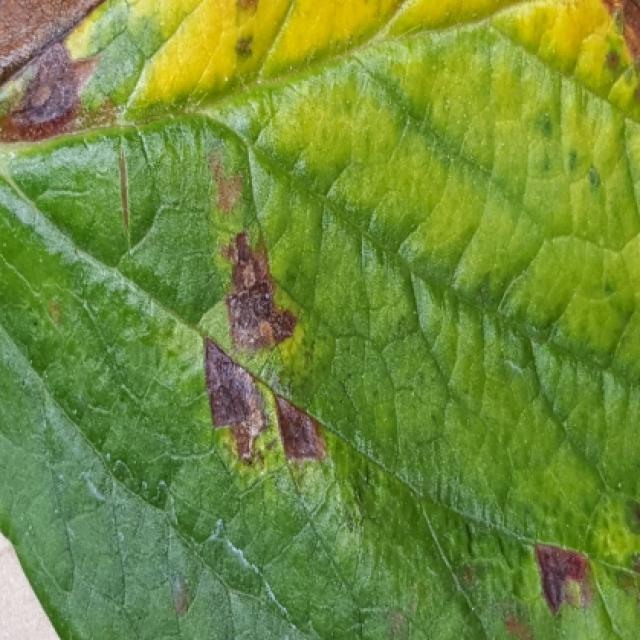Angular Leafspot: (581, 0, 638, 115)
